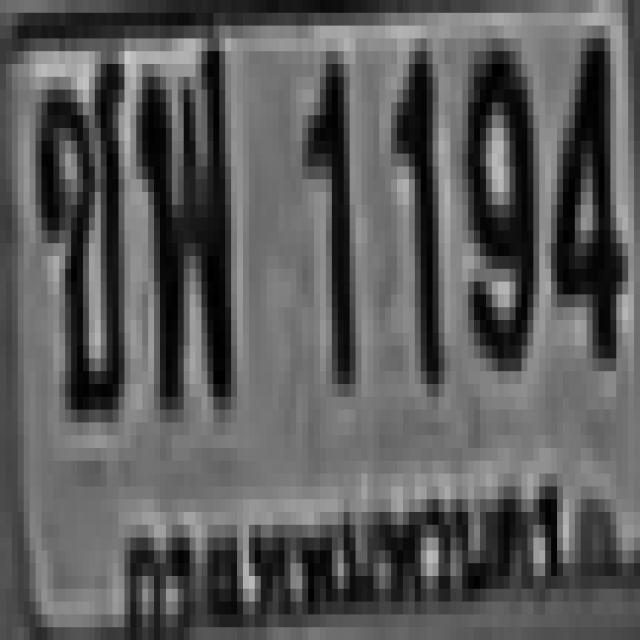1: (302, 51, 350, 384), (391, 38, 433, 384)
19ChorChang: (32, 51, 122, 410)
4: (551, 26, 616, 358)
9: (462, 39, 534, 358)
